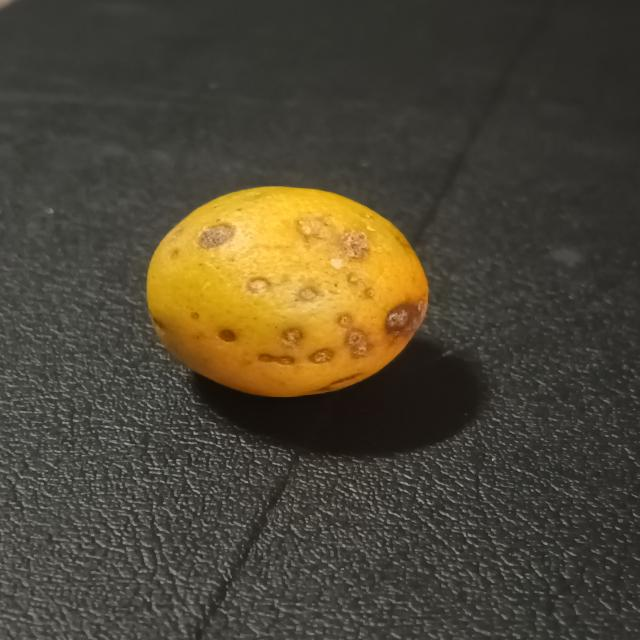black spot: (142, 188, 436, 404)
